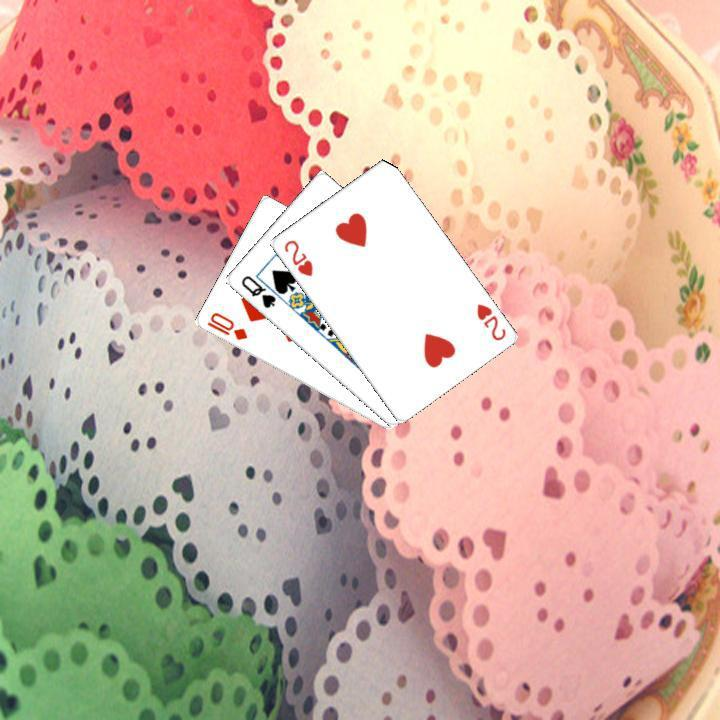10: (202, 308, 249, 342)
2: (472, 299, 508, 343), (279, 235, 315, 278)
Q: (236, 271, 278, 310)
